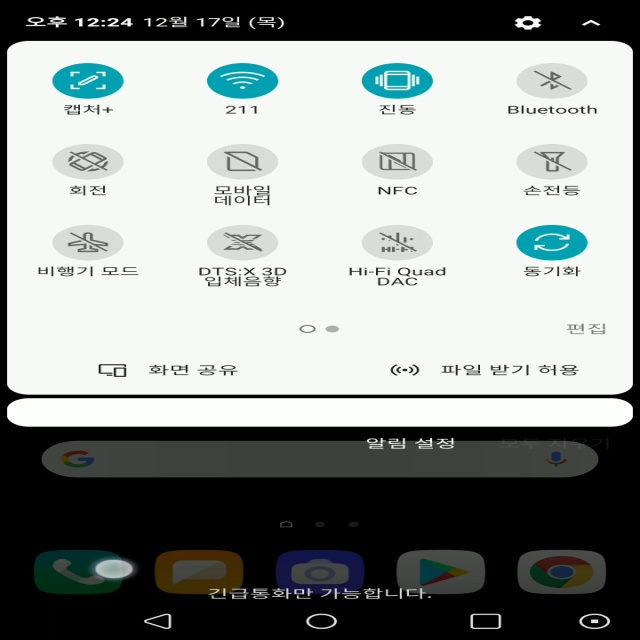Cursor: (93, 558, 137, 580)
